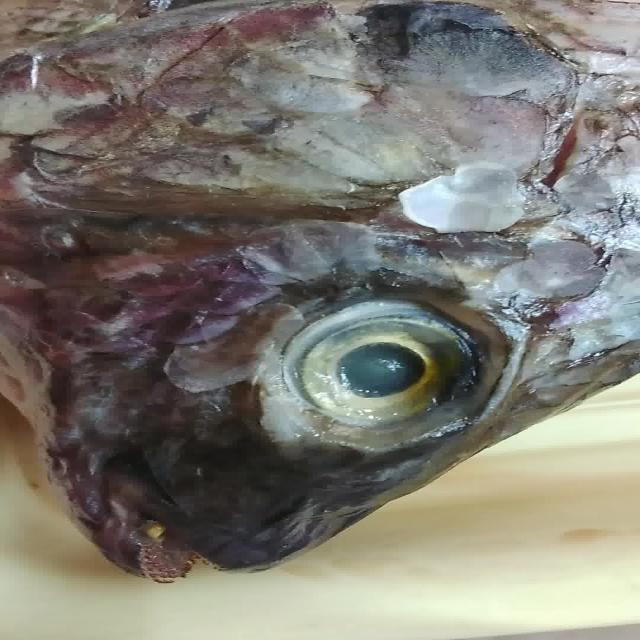Non-Fresh: (253, 271, 521, 471)
